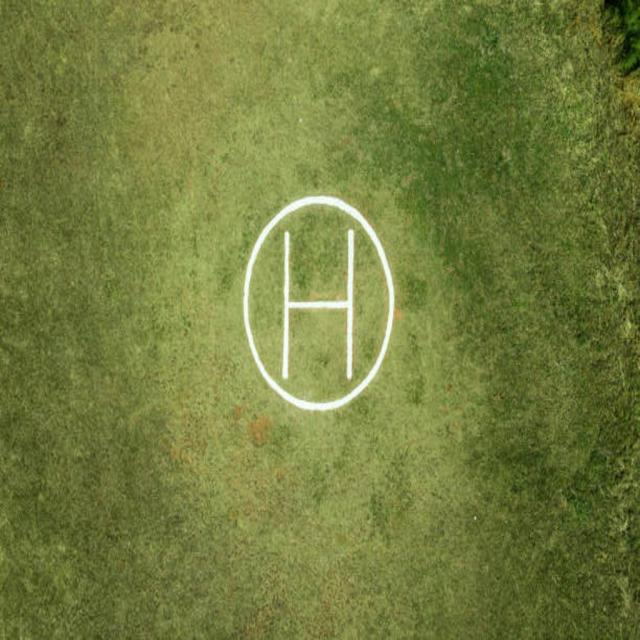helipad: (241, 192, 397, 412)
